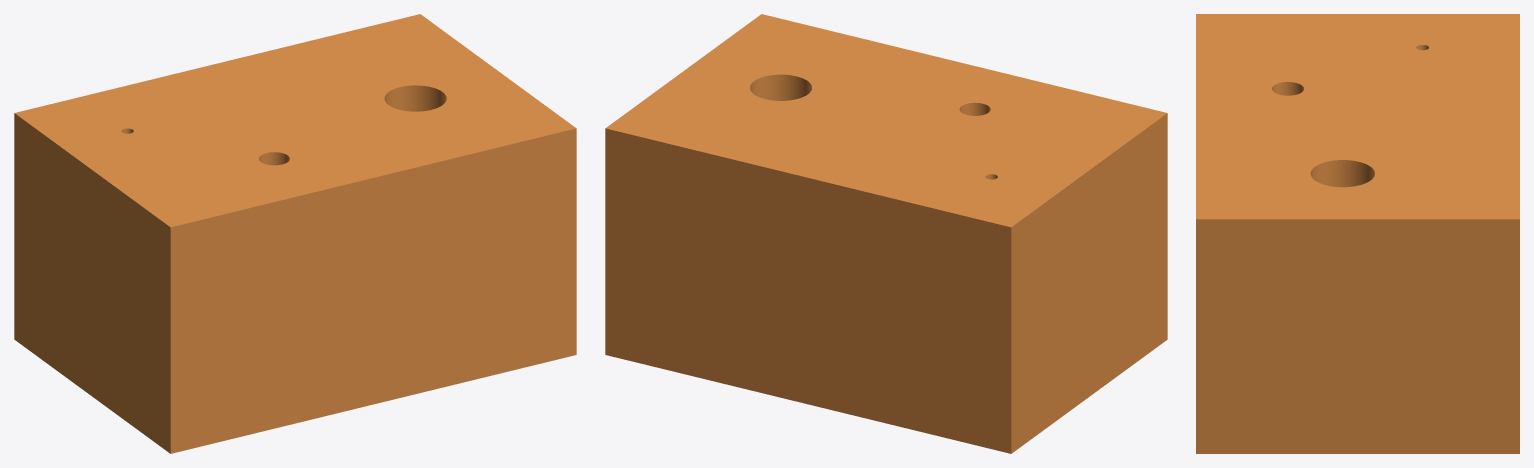
3 views of the same model, side by side, from view 1: azimuth 30°, elevation 25°; view 2: azimuth 150°, elevation 25°; view 3: azimuth 270°, elevation 25° (orthographic). The views are drawn at different scales.
Parts seen in each view (by area): view 1: SOLID; view 2: SOLID; view 3: SOLID.
Boxes of the visible parts, <box> form: SOLID: <box>14,14,576,453</box>; SOLID: <box>605,14,1167,453</box>; SOLID: <box>1196,14,1519,453</box>.
Bounding box in the file's own units: 75 × 40 × 50.
